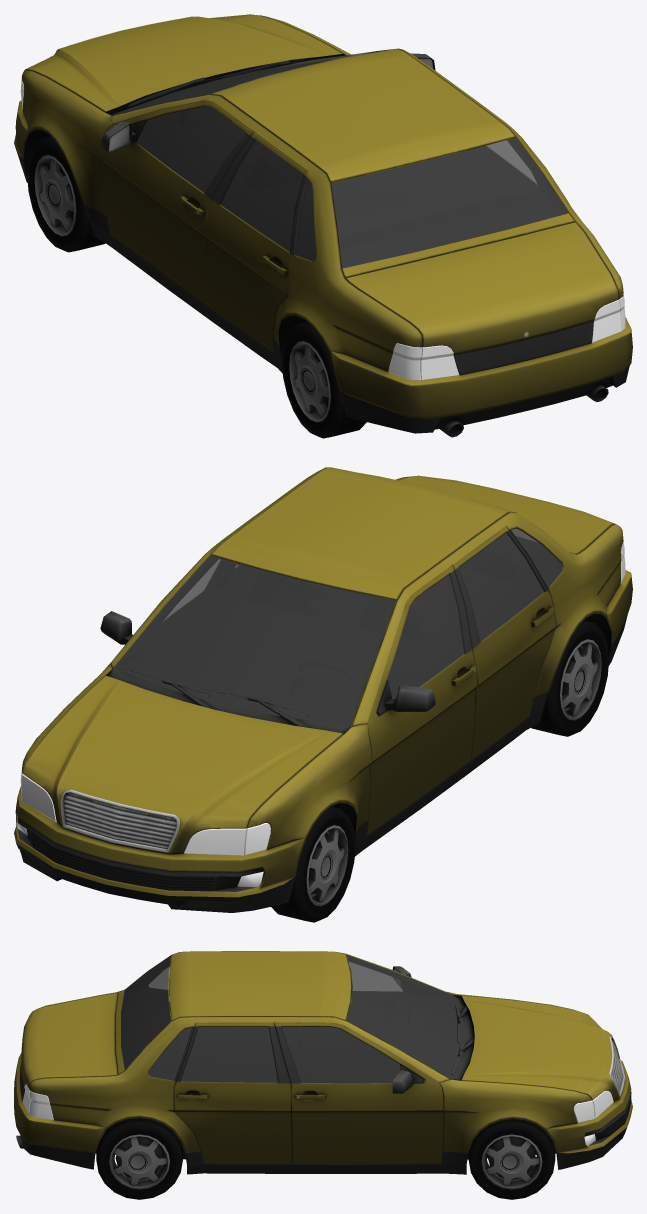
The model's file is sedan.glb.
The picture shows the model from 3 angles, top to bottom: view 1: azimuth 30°, elevation 25°; view 2: azimuth 150°, elevation 25°; view 3: azimuth 270°, elevation 25°; orthographic projection. The views are drawn at different scales.
Visible parts, largest first — view 1: Body, Wheel_RL, Wheel_FL; view 2: Body, Wheel_FL, Wheel_RL; view 3: Body, Wheel_RR, Wheel_FR.
Boxes of the visible parts, bbox=[...] form: Body: bbox=[14, 14, 632, 437]; Wheel_RL: bbox=[282, 322, 366, 438]; Wheel_FL: bbox=[27, 136, 105, 252]; Body: bbox=[14, 467, 632, 912]; Wheel_FL: bbox=[271, 806, 355, 922]; Wheel_RL: bbox=[531, 620, 608, 736]; Body: bbox=[14, 951, 632, 1174]; Wheel_RR: bbox=[96, 1118, 182, 1199]; Wheel_FR: bbox=[468, 1119, 555, 1199].
Bounding box in the file's own units: 2.18 × 1.51 × 4.91.
Materials: 4 (2 with a texture image).
